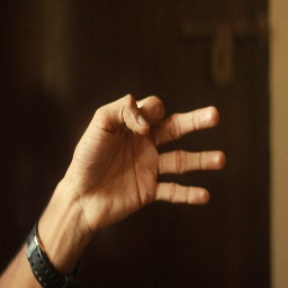K: (72, 92, 224, 221)
